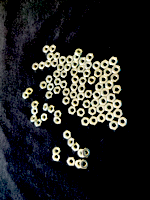nut: (118, 117, 129, 127), (80, 160, 90, 170), (101, 88, 111, 98), (110, 121, 119, 132), (67, 158, 76, 168), (78, 149, 87, 159), (64, 130, 73, 140), (53, 109, 63, 118), (114, 109, 124, 118), (90, 116, 99, 126), (98, 113, 107, 123), (105, 103, 114, 113), (94, 69, 104, 78), (72, 142, 80, 153), (82, 149, 91, 158), (77, 108, 86, 117), (52, 70, 61, 79), (83, 100, 92, 109), (97, 105, 106, 114), (115, 100, 124, 109), (91, 98, 100, 107), (106, 81, 115, 90), (112, 65, 121, 74), (93, 61, 102, 70), (100, 75, 109, 84), (66, 55, 75, 64), (107, 112, 115, 122), (89, 107, 97, 117), (113, 86, 123, 94), (68, 138, 76, 147), (53, 154, 62, 162), (82, 118, 90, 127), (30, 108, 39, 116), (31, 100, 40, 108), (54, 117, 63, 125), (48, 104, 56, 113), (45, 91, 54, 99), (51, 59, 59, 68), (63, 97, 72, 105), (69, 91, 78, 99), (85, 90, 93, 99), (70, 83, 79, 91), (77, 85, 86, 93), (88, 77, 97, 85), (100, 97, 108, 106), (110, 57, 118, 66), (111, 74, 120, 82), (79, 77, 88, 85), (83, 70, 92, 78), (85, 61, 94, 69), (71, 60, 80, 68), (76, 159, 83, 169), (52, 148, 62, 155), (34, 119, 42, 127), (41, 114, 49, 122), (30, 115, 38, 123), (25, 87, 33, 95), (47, 83, 55, 91), (45, 76, 53, 84), (53, 52, 61, 60), (69, 107, 77, 115), (72, 99, 80, 107), (63, 88, 71, 96), (54, 86, 62, 94), (54, 78, 62, 86), (77, 93, 85, 101), (108, 94, 116, 102), (94, 91, 102, 99), (96, 83, 104, 91), (101, 60, 109, 68), (88, 77, 96, 85), (79, 57, 87, 65), (71, 68, 79, 76), (32, 62, 39, 71), (50, 45, 57, 54), (61, 80, 68, 89), (86, 54, 95, 61), (60, 70, 69, 77), (42, 103, 49, 111), (40, 81, 47, 89), (39, 62, 46, 70), (45, 60, 52, 68), (46, 53, 54, 60), (57, 64, 65, 71), (59, 56, 66, 64), (72, 76, 80, 83), (105, 68, 112, 76), (78, 66, 86, 73), (75, 49, 84, 55), (23, 92, 30, 99), (43, 46, 50, 53), (74, 54, 81, 61), (65, 64, 72, 71), (43, 103, 49, 111)
